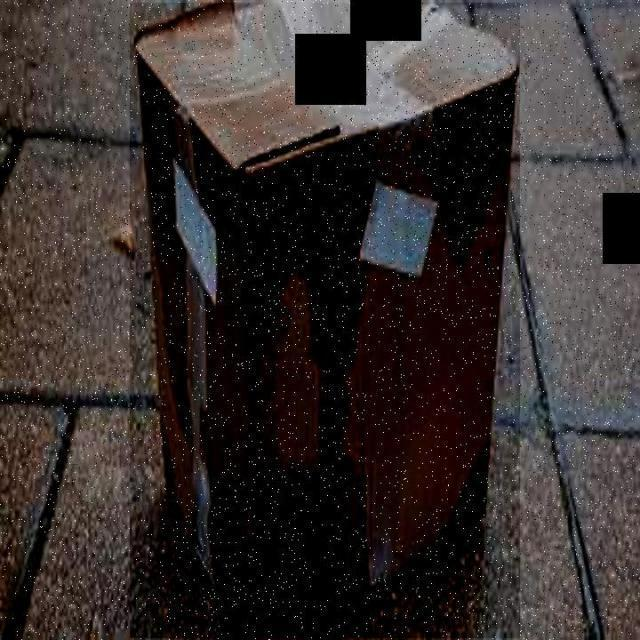box: (130, 2, 520, 638)
